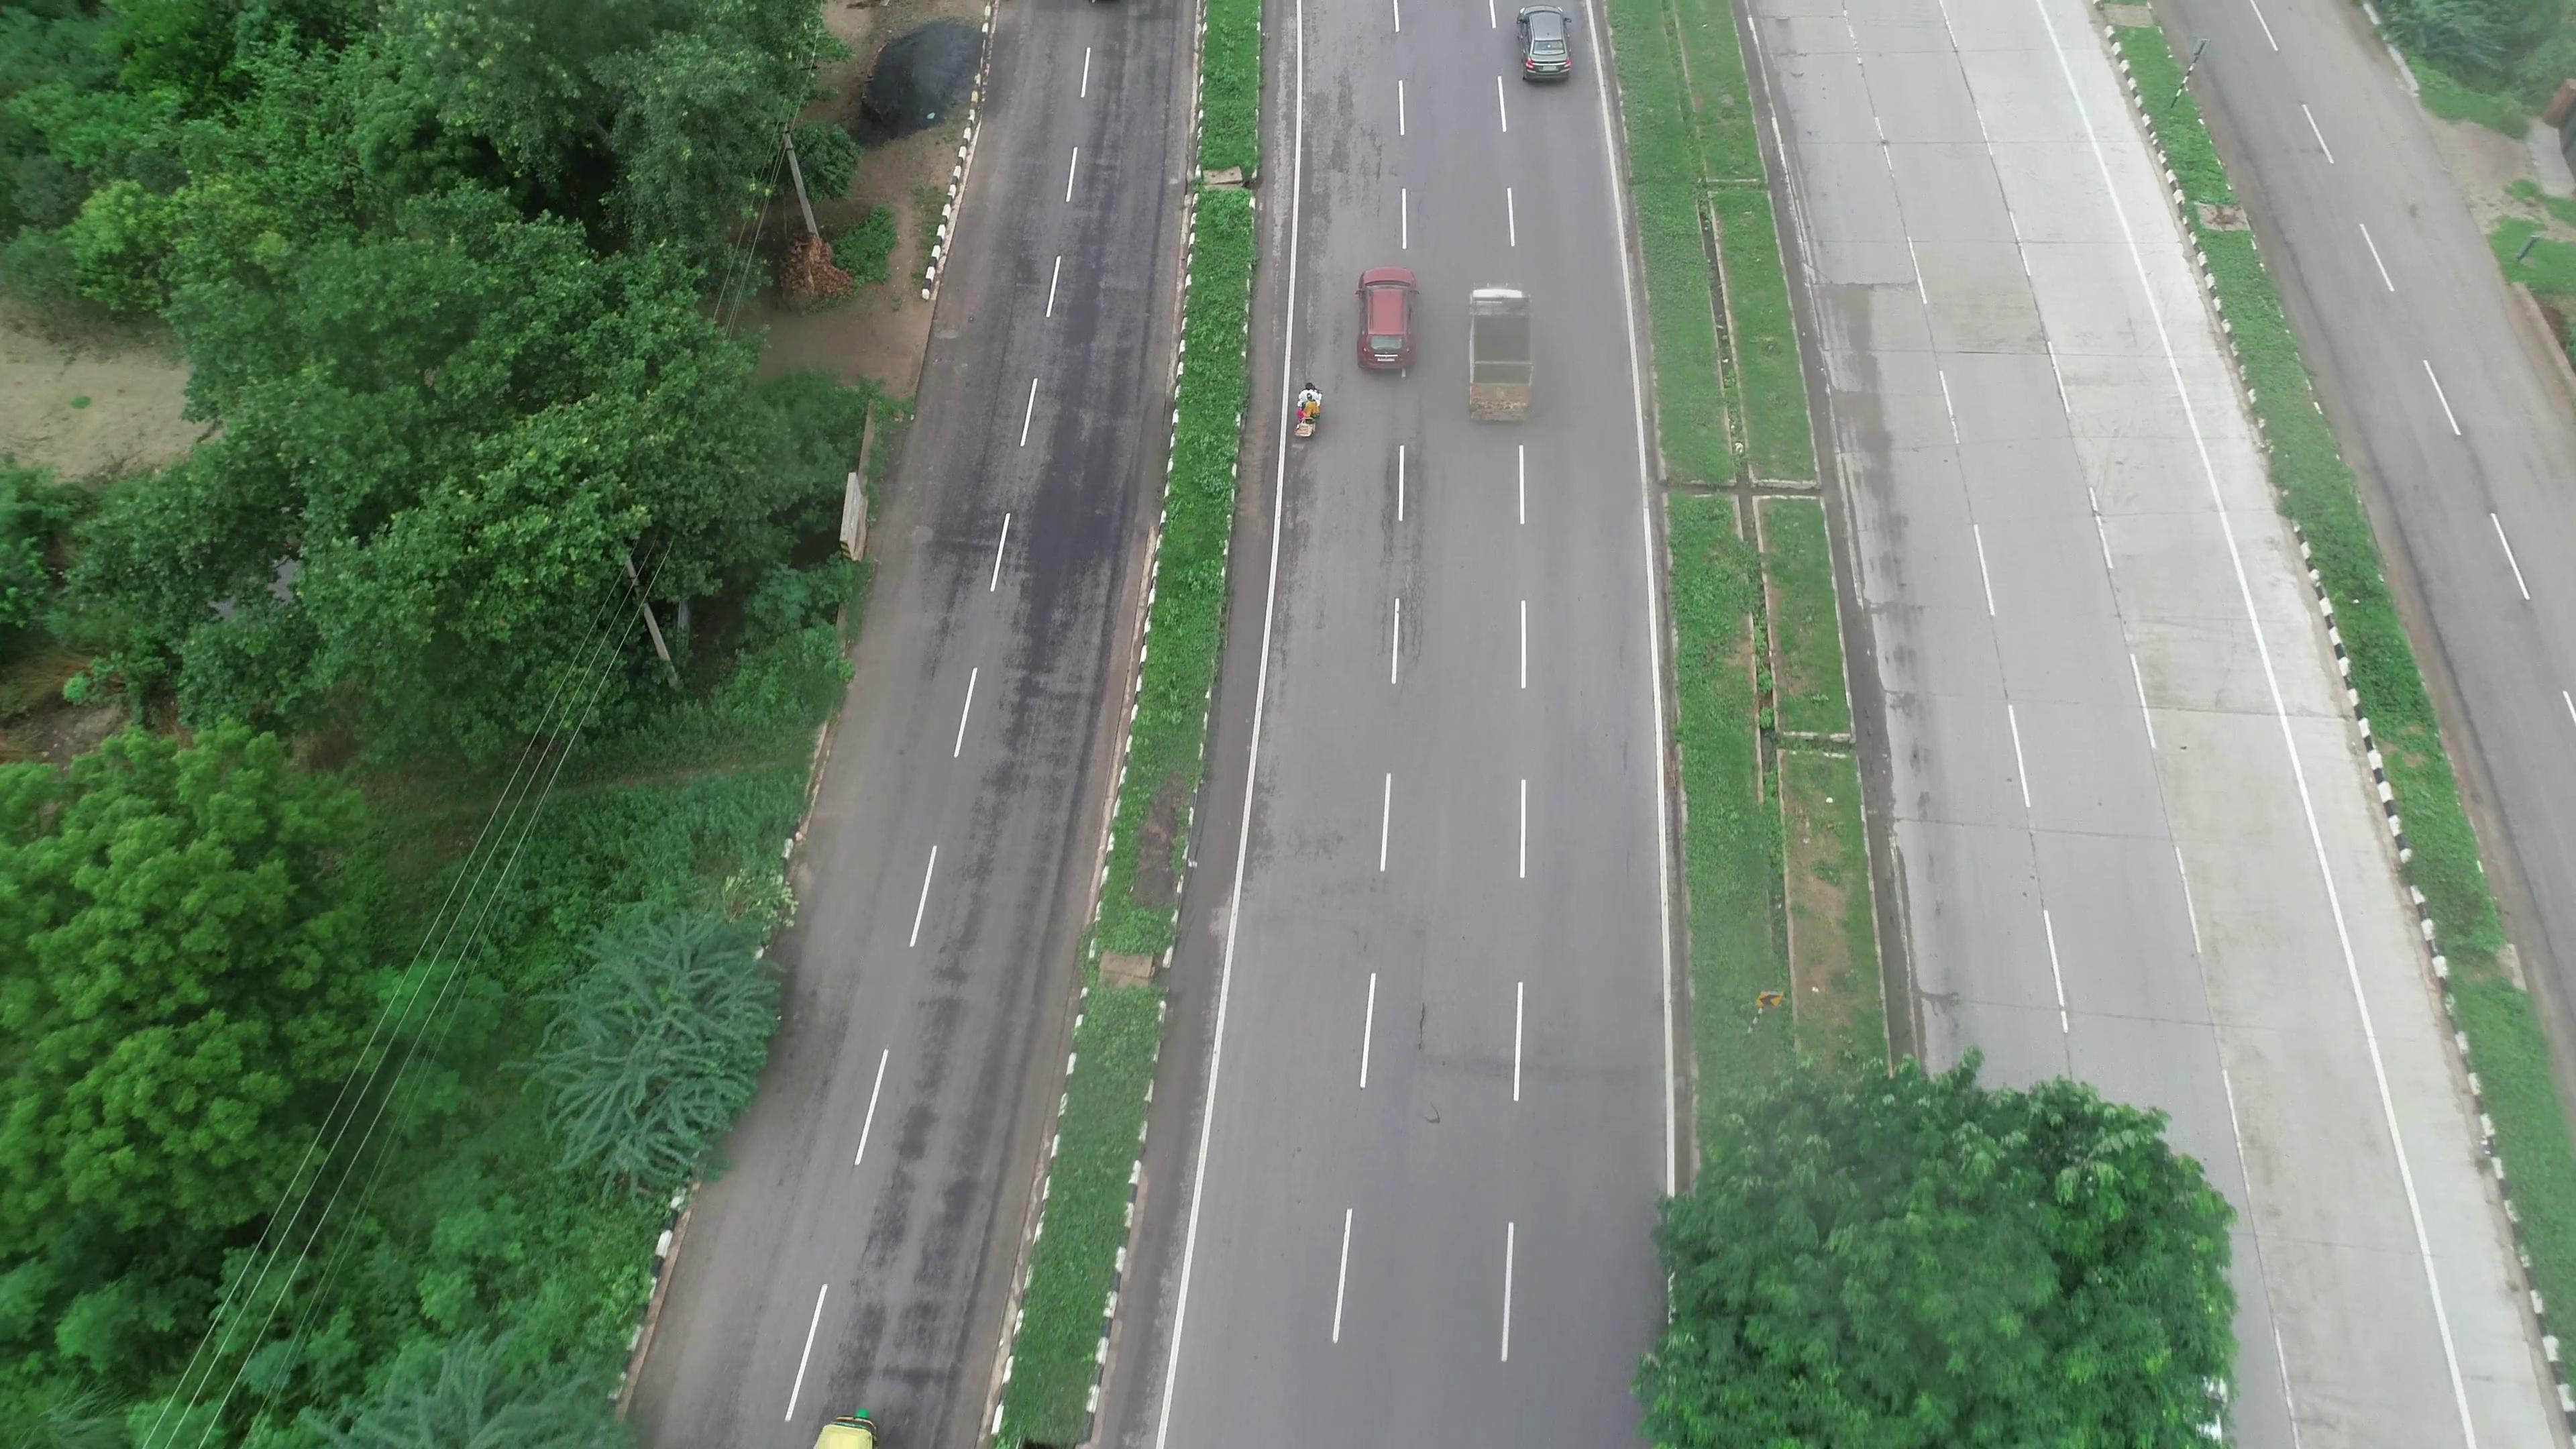Alligator_cracks: (1366, 453, 1430, 649)
